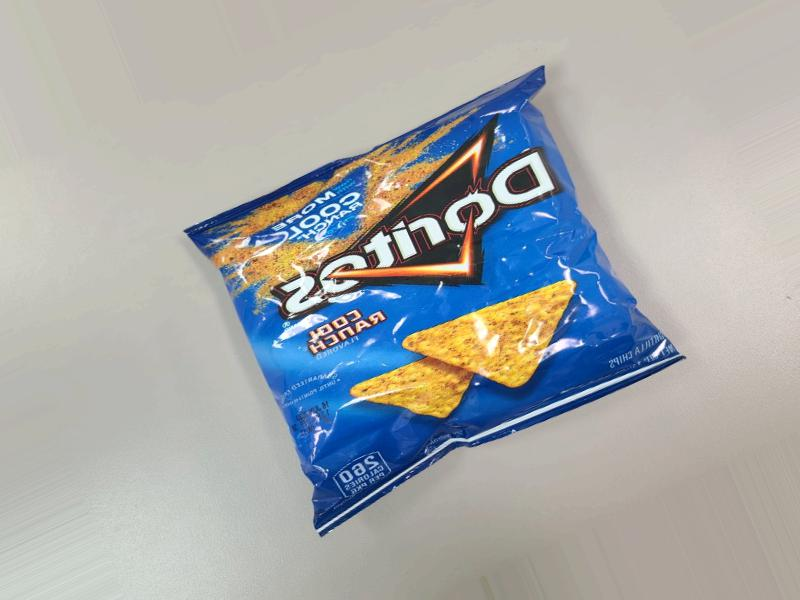doritos: (274, 55, 736, 583)
